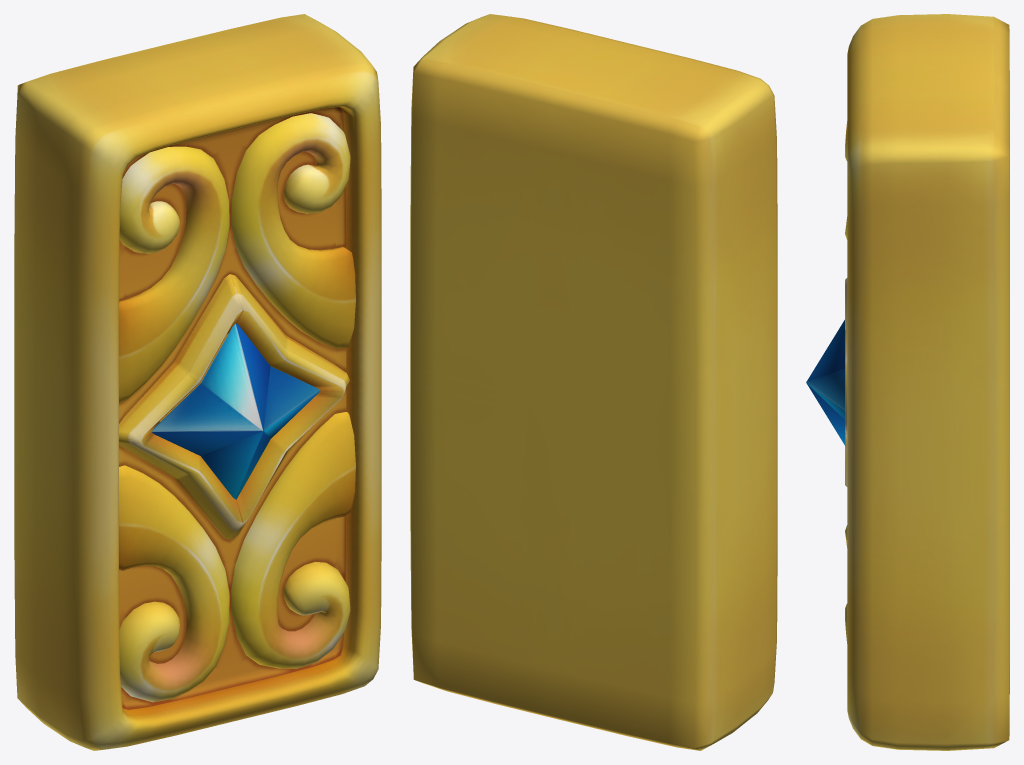
The model's file is Jinpai.gltf.
The picture shows the model from 3 angles, left to right: view 1: azimuth 30°, elevation 25°; view 2: azimuth 150°, elevation 25°; view 3: azimuth 270°, elevation 25°; orthographic projection. The views are drawn at different scales.
Visible parts, largest first — view 1: Low1_Jp004_Low; view 2: Low1_Jp004_Low; view 3: Low1_Jp004_Low.
Boxes of the visible parts, x1,y1,x2,y2 form: Low1_Jp004_Low: (14,14,381,750); Low1_Jp004_Low: (410,14,777,750); Low1_Jp004_Low: (806,14,1009,750).
Size of the model in its own units: 0.0803 by 0.1583 by 0.0477.
1 material, 1 textured.
